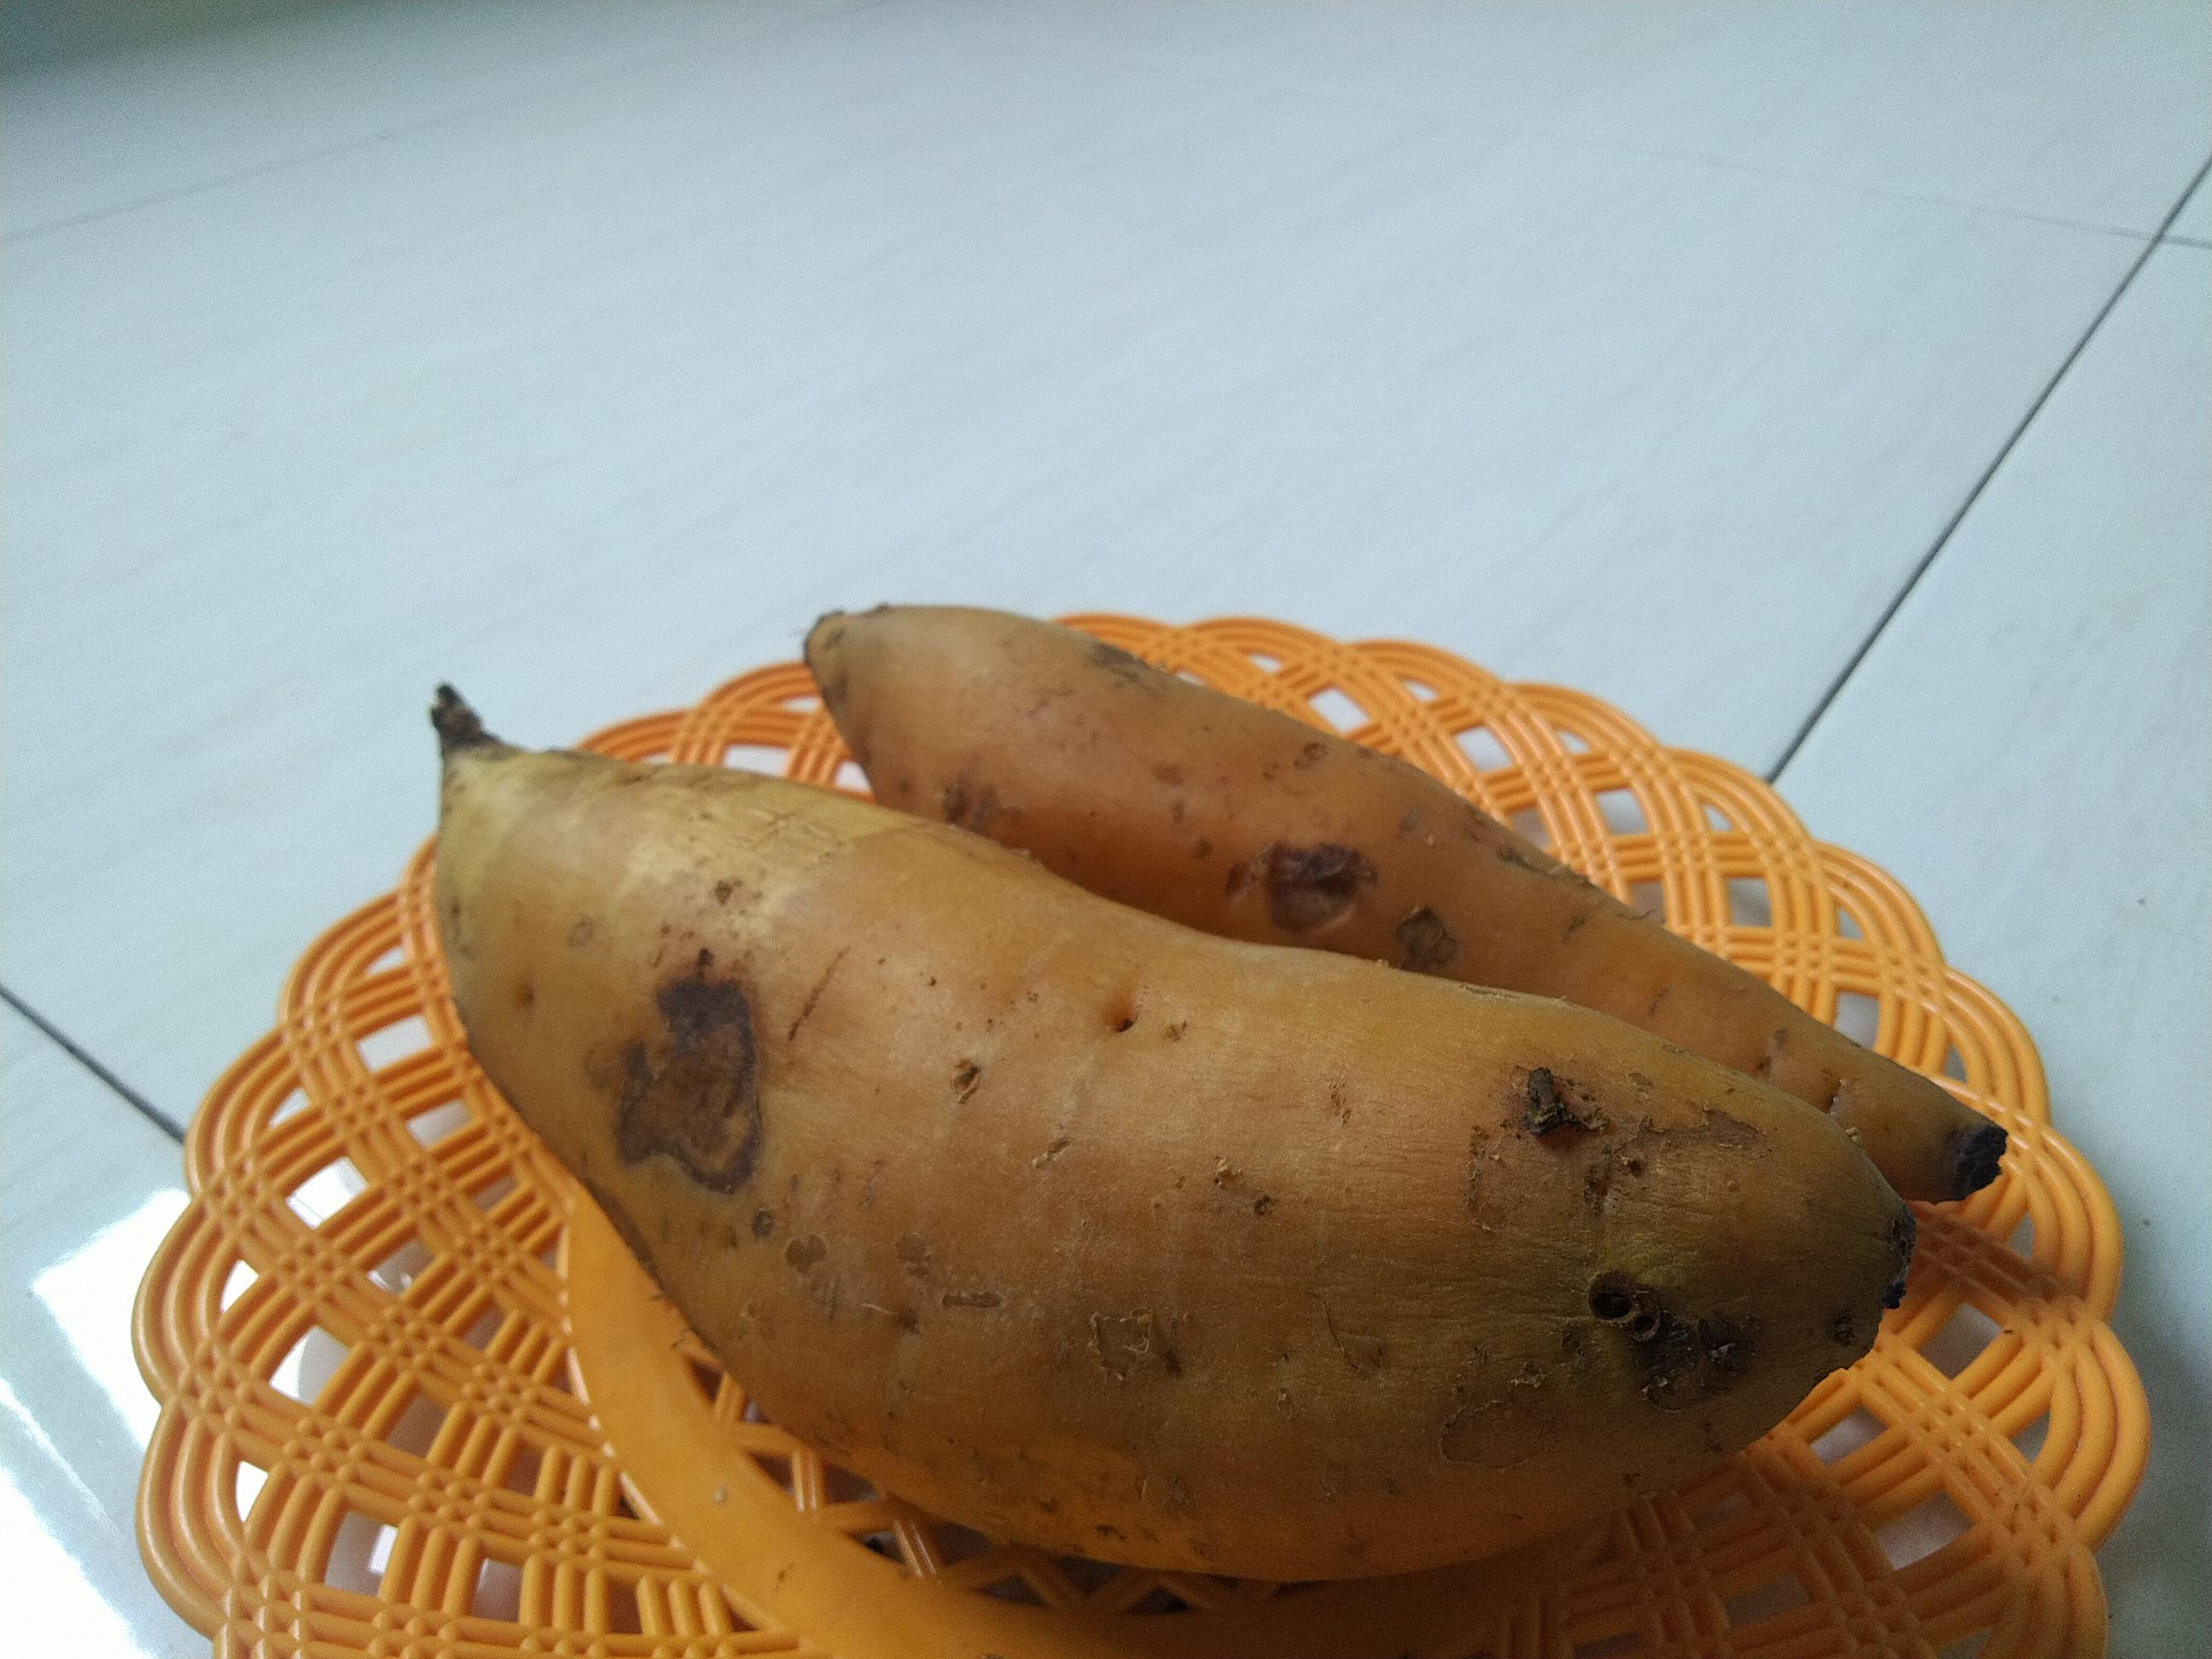ubi cilembu: (354, 561, 2020, 1624), (373, 681, 1902, 1579), (780, 594, 2036, 1239)
